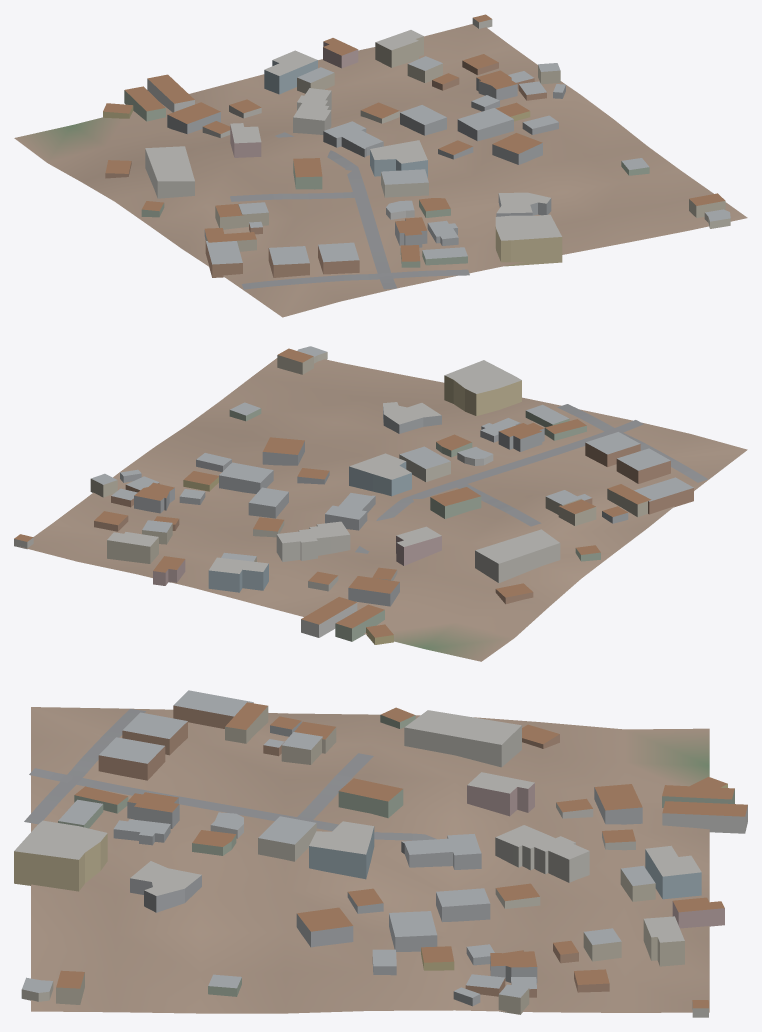
3 views of the same model, one above another, from view 1: azimuth 30°, elevation 25°; view 2: azimuth 150°, elevation 25°; view 3: azimuth 270°, elevation 25° (orthographic). The views are drawn at different scales.
Parts seen in each view (by area): view 1: Lo; view 2: Lo; view 3: Lo.
Part boxes in pixels (bbox=[...]): Lo: bbox=[14, 14, 747, 317]; Lo: bbox=[14, 346, 747, 661]; Lo: bbox=[14, 690, 747, 1017].
Size of the model in its own units: 264 by 20.19 by 277.
